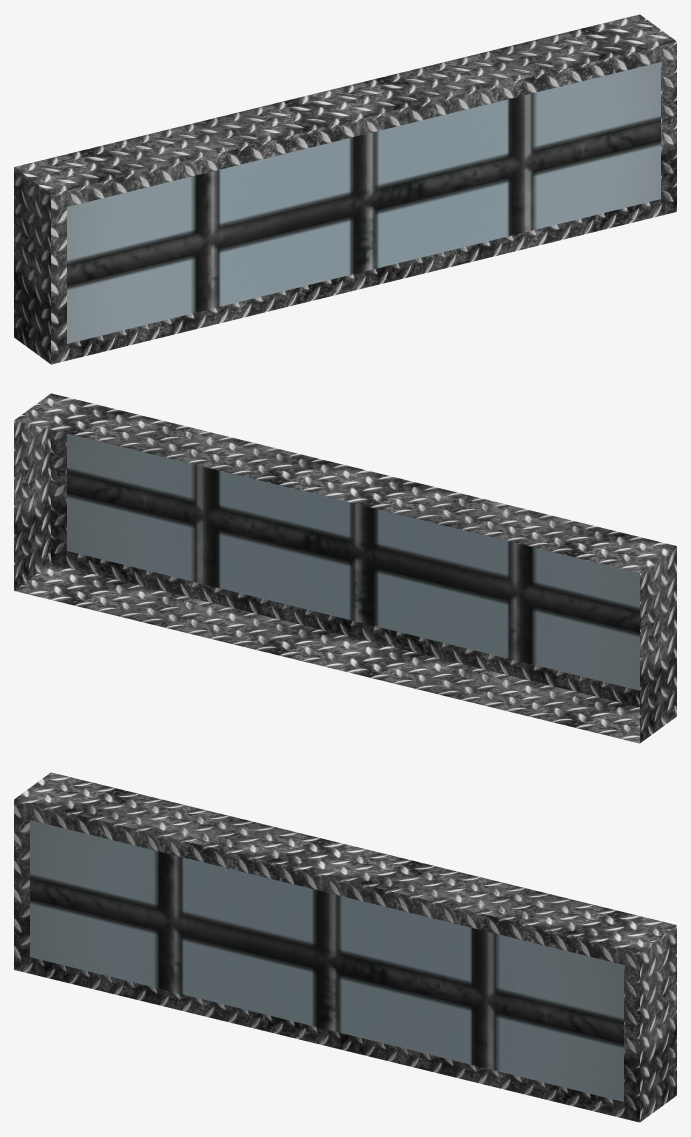
Rendered from controllroom_lamp.glb.
3 views of the same model, one above another, from view 1: azimuth 30°, elevation 25°; view 2: azimuth 150°, elevation 25°; view 3: azimuth 330°, elevation 25° (orthographic).
Visible parts, largest first — view 1: light_reactor; view 2: light_reactor; view 3: light_reactor.
Part boxes in pixels (x1,y1,x2,y2): light_reactor: (14,14,676,364); light_reactor: (14,393,676,743); light_reactor: (14,772,676,1122).
Bounding box in the file's own units: 2.36 × 0.6146 × 0.2425.
2 materials, 2 textured.
